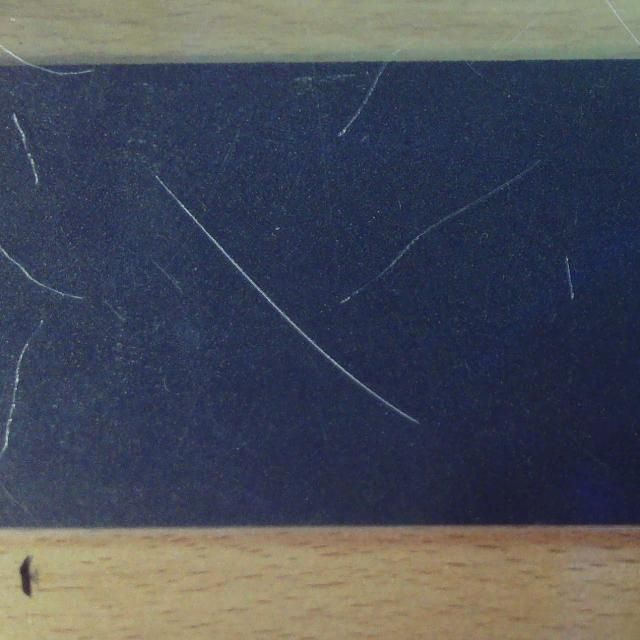defect: (154, 174, 420, 424), (339, 159, 547, 306), (0, 314, 49, 460), (0, 243, 88, 300), (337, 63, 391, 139), (10, 109, 47, 190), (18, 68, 95, 87), (558, 255, 582, 303)
